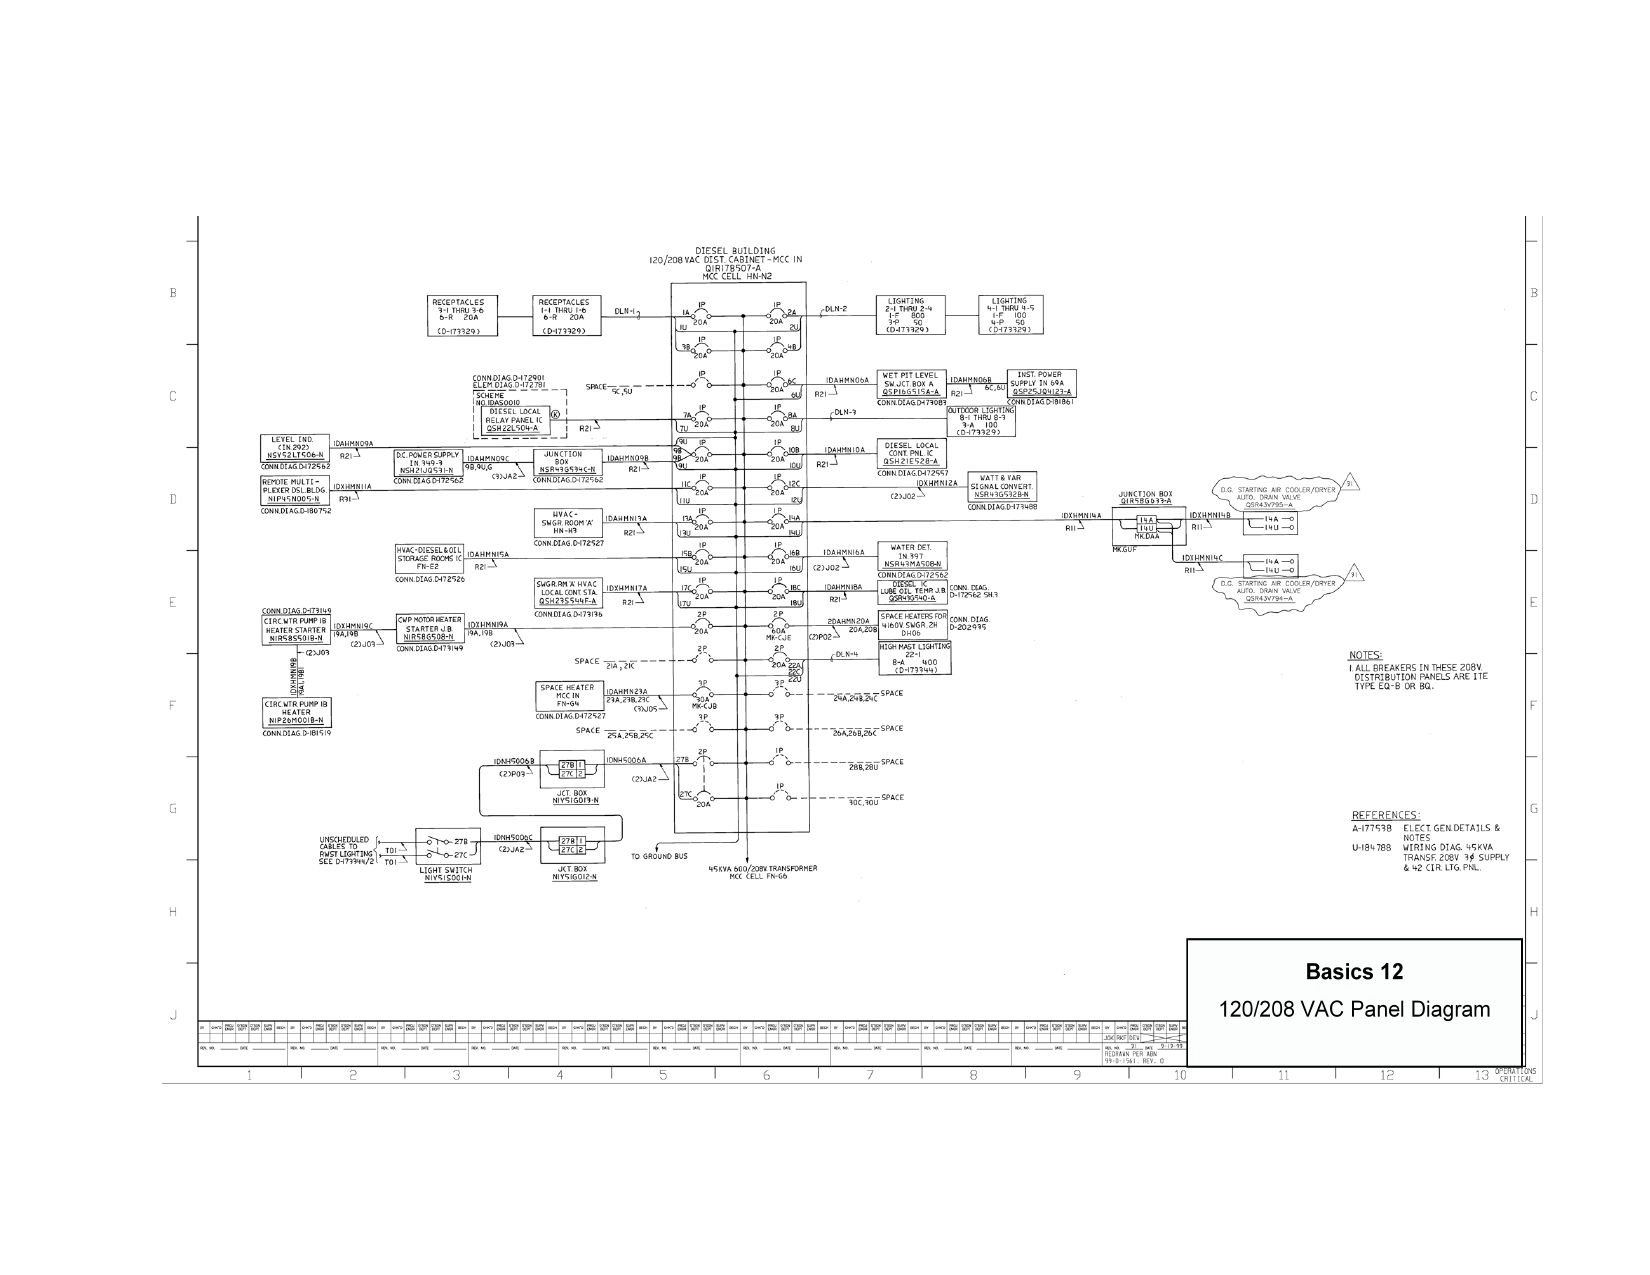circuit_breaker: (682, 296, 720, 326), (757, 368, 797, 396), (757, 297, 794, 326), (762, 782, 799, 810), (761, 746, 798, 772), (682, 401, 716, 429), (761, 644, 799, 668), (762, 438, 793, 467), (760, 403, 794, 429), (760, 509, 798, 532), (684, 713, 722, 736), (760, 612, 797, 635), (683, 370, 718, 394), (759, 541, 794, 565), (759, 474, 795, 497), (764, 714, 798, 738), (684, 334, 716, 359), (759, 335, 791, 360), (688, 781, 718, 807), (762, 678, 792, 703), (688, 746, 718, 771), (684, 647, 716, 670), (763, 578, 796, 600), (684, 613, 716, 635), (684, 511, 721, 530), (686, 578, 718, 599), (686, 680, 717, 701), (684, 545, 718, 564), (687, 475, 717, 494), (687, 442, 716, 461)
